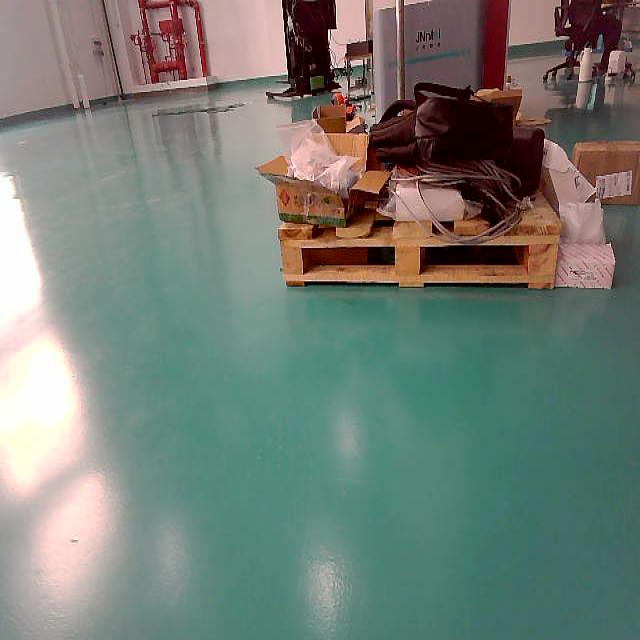euro: (282, 208, 558, 288)
